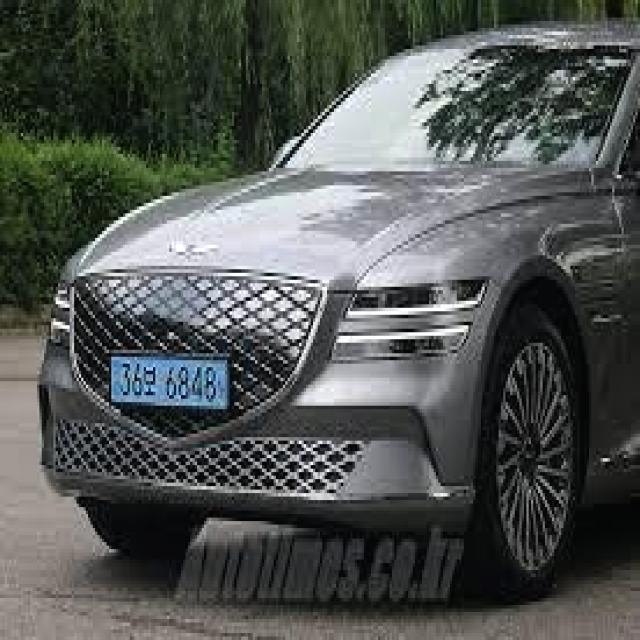EV_plate: (109, 348, 229, 417)
car: (34, 16, 640, 605)
